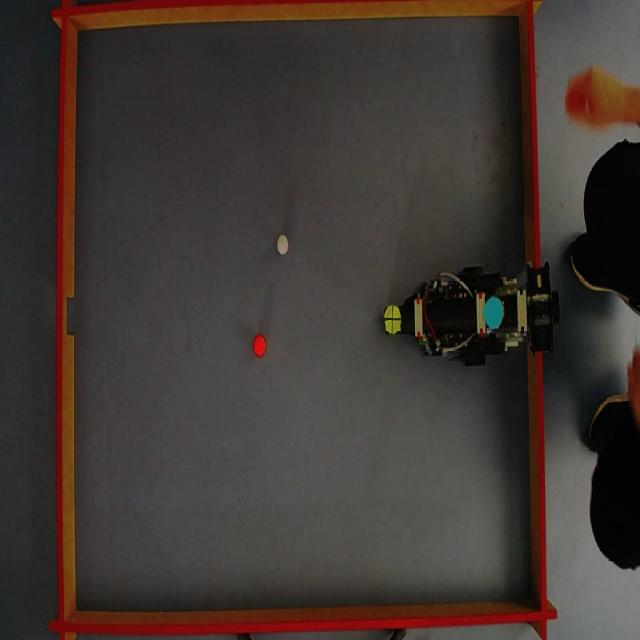orange: (252, 332, 266, 358)
robot: (386, 261, 567, 367)
robot-front: (383, 302, 402, 336)
robot-rear: (484, 292, 504, 330)
white: (275, 234, 289, 255)
